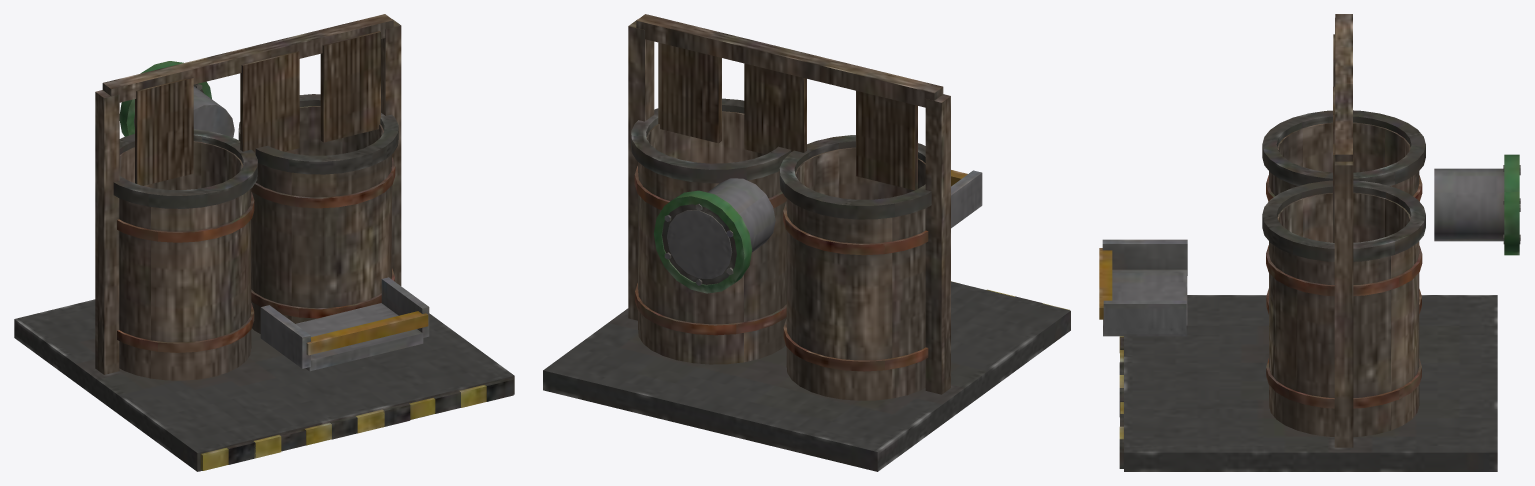
Rendered from feTannery.glb.
3 views of the same model, side by side, from view 1: azimuth 30°, elevation 25°; view 2: azimuth 150°, elevation 25°; view 3: azimuth 270°, elevation 25° (orthographic). The views are drawn at different scales.
Parts seen in each view (by area): view 1: feTannery_Base; view 2: feTannery_Base; view 3: feTannery_Base.
Boxes of the visible parts, x1,y1,x2,y2 form: feTannery_Base: (14,14,514,471); feTannery_Base: (543,14,1070,471); feTannery_Base: (1099,14,1520,471).
Bounding box in the file's own units: 0.9012 × 0.8236 × 1.02.
2 materials, 1 textured.
